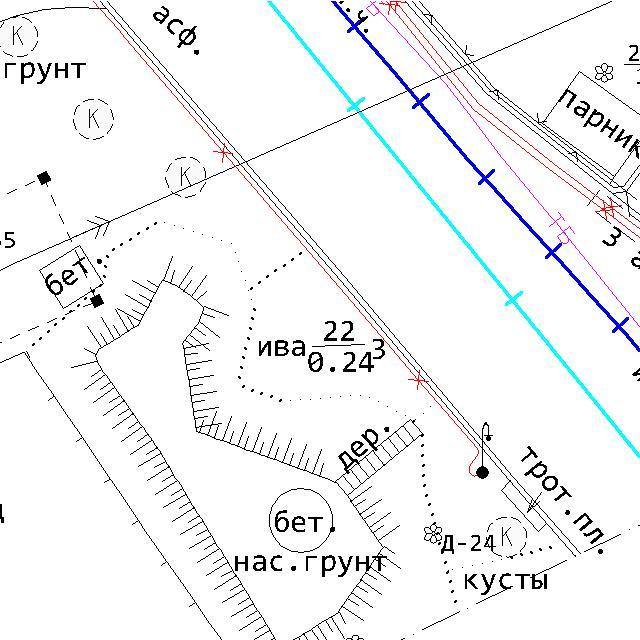asphalt: (152, 4, 202, 57)
bushes: (72, 98, 116, 142), (485, 515, 529, 559), (164, 156, 207, 199), (594, 62, 614, 84), (423, 523, 443, 545)
